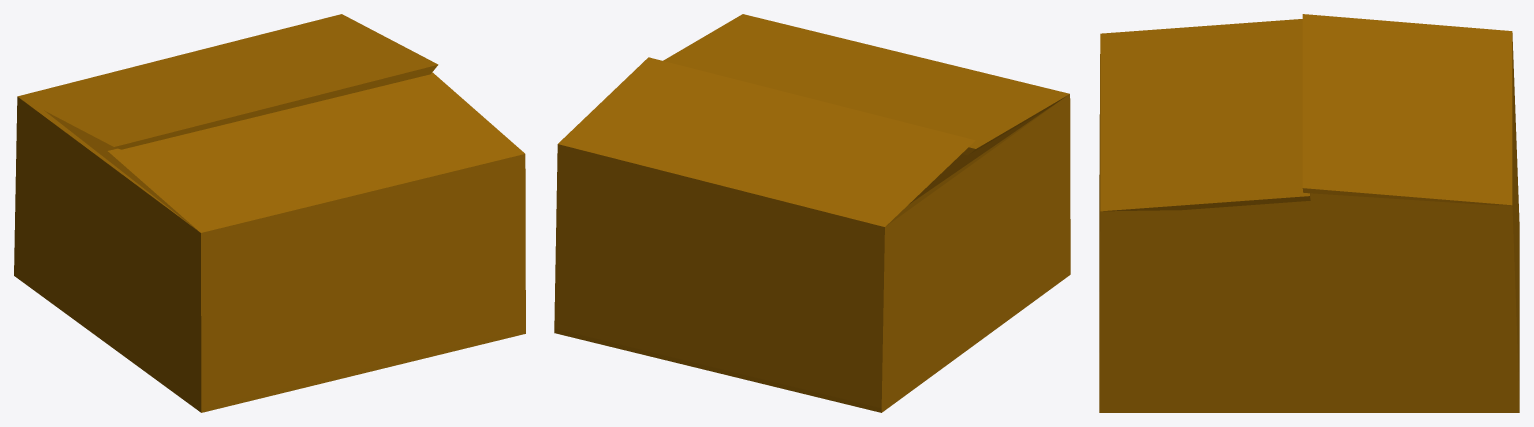
The picture shows the model from 3 angles, left to right: view 1: azimuth 30°, elevation 25°; view 2: azimuth 150°, elevation 25°; view 3: azimuth 270°, elevation 25°; orthographic projection. The views are drawn at different scales.
Parts seen in each view (by area): view 1: ChipfoodCoDamaged.001; view 2: ChipfoodCoDamaged.001; view 3: ChipfoodCoDamaged.001.
Part boxes in pixels (bbox=[...]): ChipfoodCoDamaged.001: bbox=[14, 14, 525, 412]; ChipfoodCoDamaged.001: bbox=[554, 14, 1070, 412]; ChipfoodCoDamaged.001: bbox=[1099, 14, 1519, 412].
Size of the model in its own units: 4.04 by 2.38 by 4.
1 material, 1 textured.
